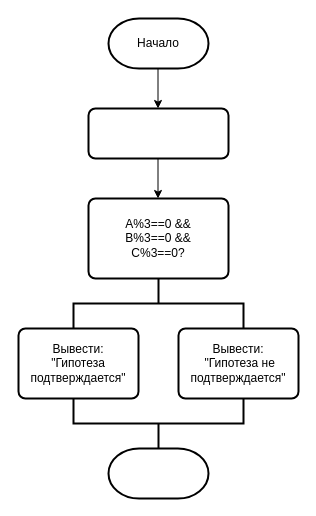
Some shapes in this 316 by 516 pixel diagram are drawn without their labels. Here are the shapes that lost their labels. From the top down, the centre of each, then its label:
the point at 158,133: Ввести A,B,C
the point at 158,473: Конец
